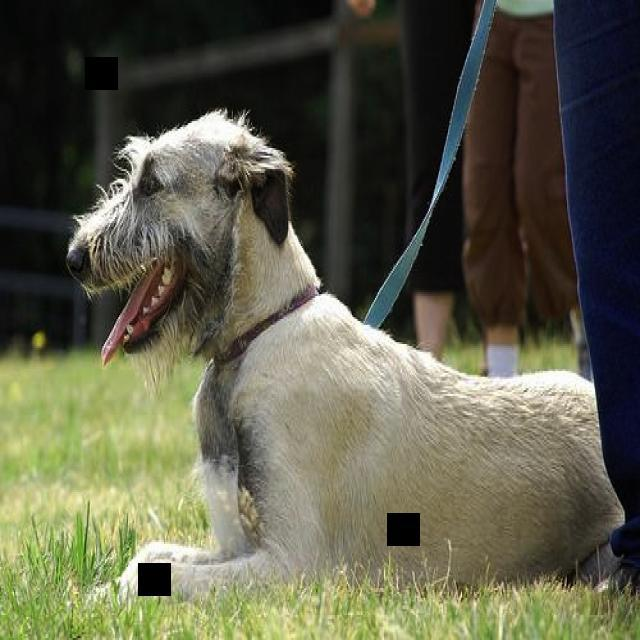adult_dog: (63, 105, 624, 610)
